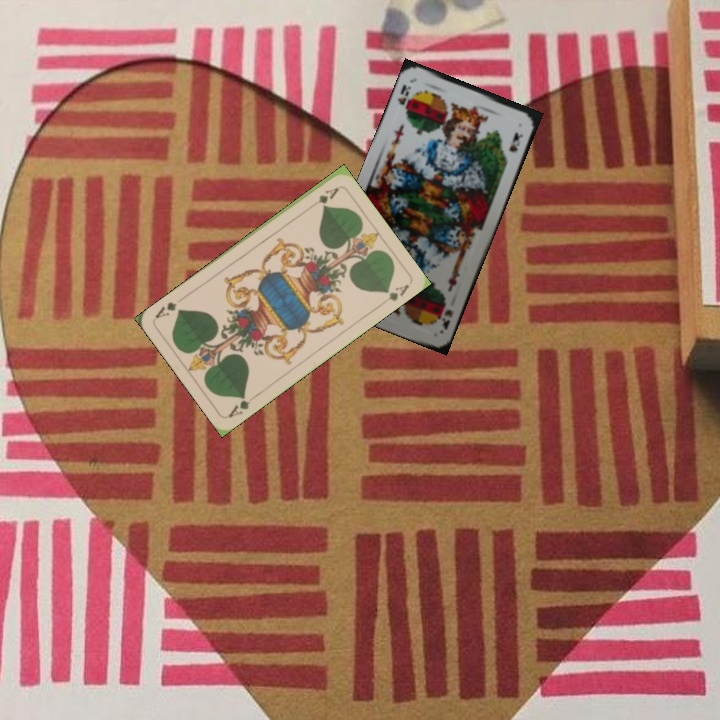GA: (224, 391, 260, 420), (306, 183, 342, 212)
SK: (393, 80, 416, 118), (435, 299, 456, 332)
